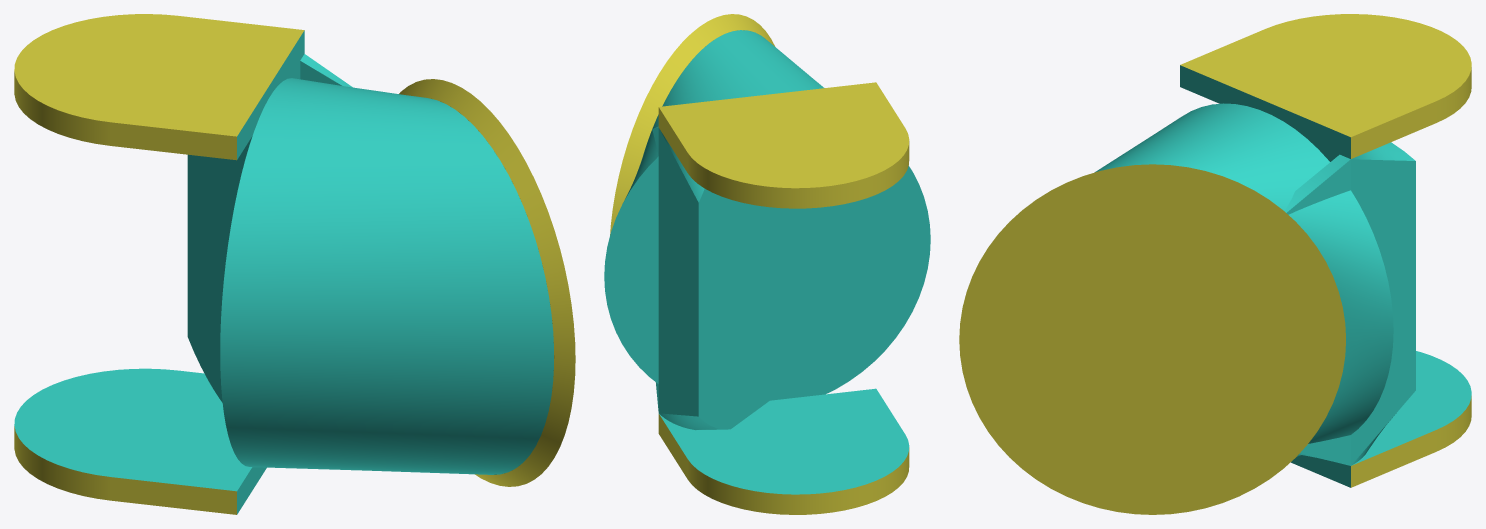
Rendered from hip_bracket_dexter.obj.
3 views of the same model, side by side, from view 1: azimuth 30°, elevation 25°; view 2: azimuth 150°, elevation 25°; view 3: azimuth 270°, elevation 25° (orthographic). The views are drawn at different scales.
Visible parts, largest first — view 1: Body4, Body2, Body3; view 2: Body2, Body4, Body3; view 3: Body3, Body2, Body4.
Boxes of the visible parts, x1,y1,x2,y2 form: Body4: [220, 78, 553, 474]; Body2: [14, 14, 352, 514]; Body3: [399, 79, 575, 486]; Body2: [652, 82, 909, 514]; Body4: [604, 30, 930, 400]; Body3: [610, 14, 775, 234]; Body3: [959, 164, 1345, 514]; Body2: [1180, 14, 1471, 487]; Body4: [1094, 103, 1393, 456].
Size of the model in its own units: 0.1471 by 0.16 by 0.2119.
